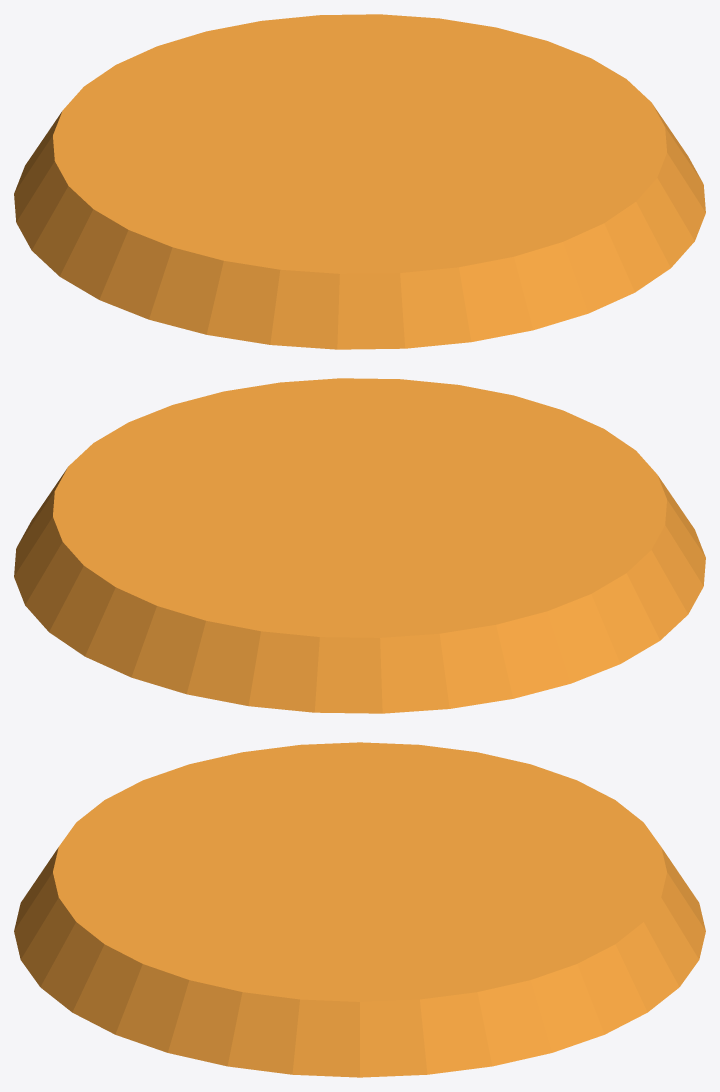
File: col.obj
The picture shows the model from 3 angles, top to bottom: view 1: azimuth 30°, elevation 25°; view 2: azimuth 150°, elevation 25°; view 3: azimuth 270°, elevation 25°; orthographic projection.
Visible parts, largest first — view 1: base25m; view 2: base25m; view 3: base25m.
Boxes of the visible parts, box(x1,y1,x2,y2) form: base25m: box(14, 14, 705, 349); base25m: box(14, 378, 705, 713); base25m: box(14, 742, 705, 1077).
Size of the model in its own units: 0.9344 by 0.0882 by 0.9344.
